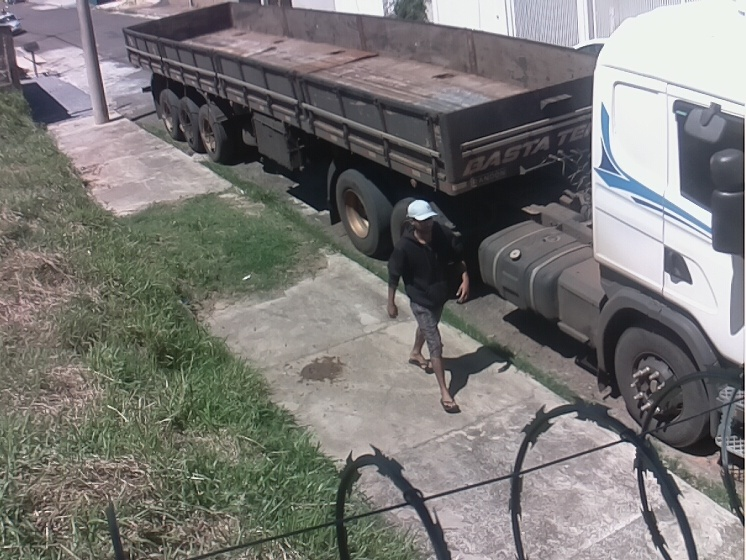person: (386, 199, 471, 415)
